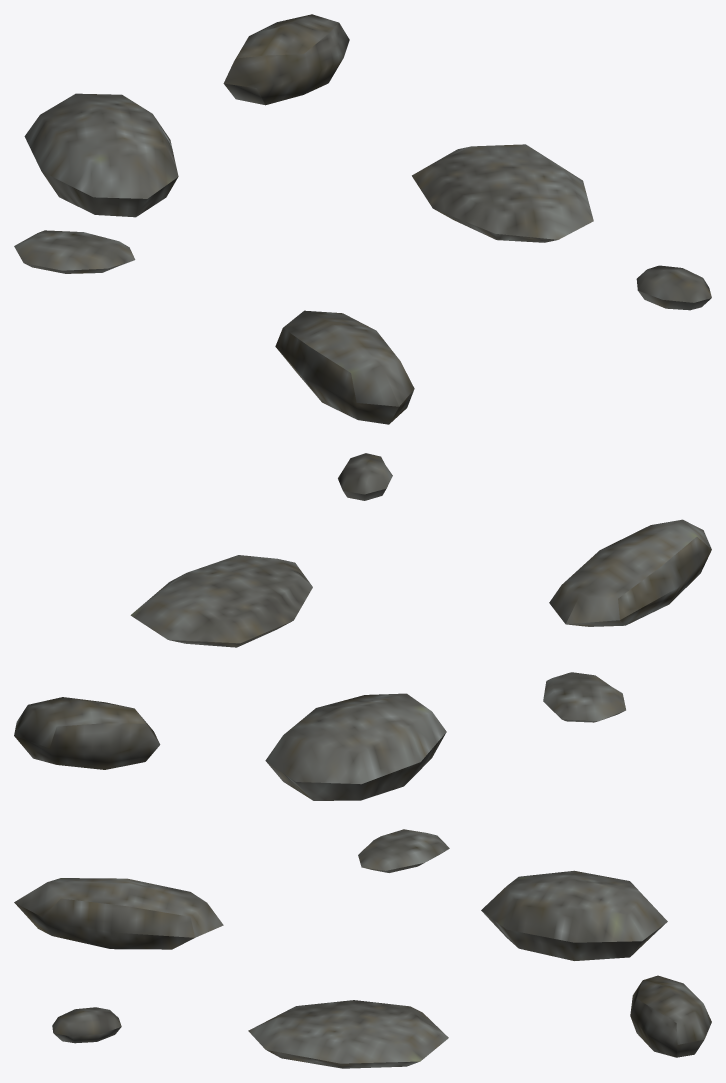
Rendered from rocksDecals.fbx.
3 renders of one model, top to bottom at view 1: azimuth 30°, elevation 25°; view 2: azimuth 150°, elevation 25°; view 3: azimuth 270°, elevation 25°, orthographic. The views are drawn at different scales.
Parts seen in each view (by area): view 1: Cube.001, Cube.003, Cube.004, Cube.002, Cube.005, Cube.006; view 2: Cube.001, Cube.003, Cube.004, Cube.002, Cube.005, Cube.006; view 3: Cube.001, Cube.004, Cube.003, Cube.002, Cube.005, Cube.006.
Part boxes in pixels (x1,y1,x2,y2): Cube.001: (24, 93, 178, 217); Cube.003: (412, 144, 593, 242); Cube.004: (275, 310, 414, 424); Cube.002: (223, 14, 349, 105); Cube.005: (14, 230, 135, 273); Cube.006: (636, 265, 711, 310); Cube.001: (265, 693, 446, 800); Cube.003: (130, 555, 312, 647); Cube.004: (549, 519, 711, 626); Cube.002: (14, 697, 160, 769); Cube.005: (543, 672, 625, 722); Cube.006: (338, 453, 392, 500); Cube.001: (481, 870, 667, 960); Cube.004: (14, 878, 223, 949); Cube.003: (248, 1000, 448, 1068); Cube.002: (630, 975, 711, 1057); Cube.005: (358, 829, 449, 872); Cube.006: (52, 1007, 121, 1043).
Size of the model in its own units: 166 by 25.72 by 225.
